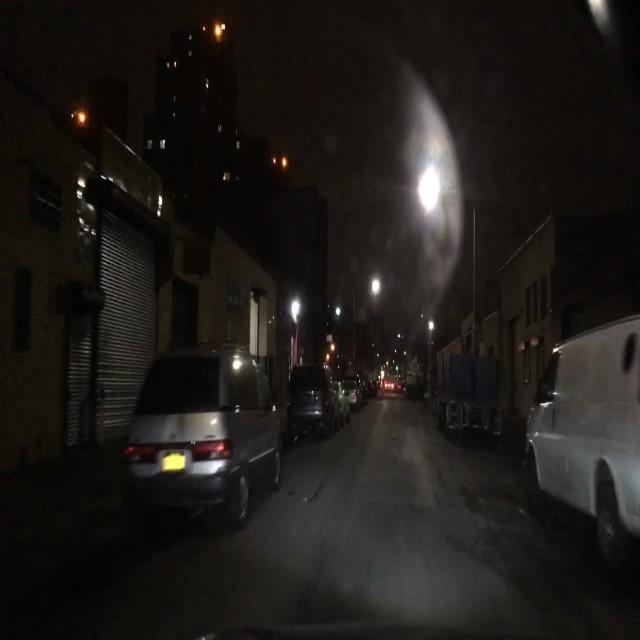normal: (121, 346, 288, 532), (523, 310, 640, 566), (287, 364, 351, 441)
